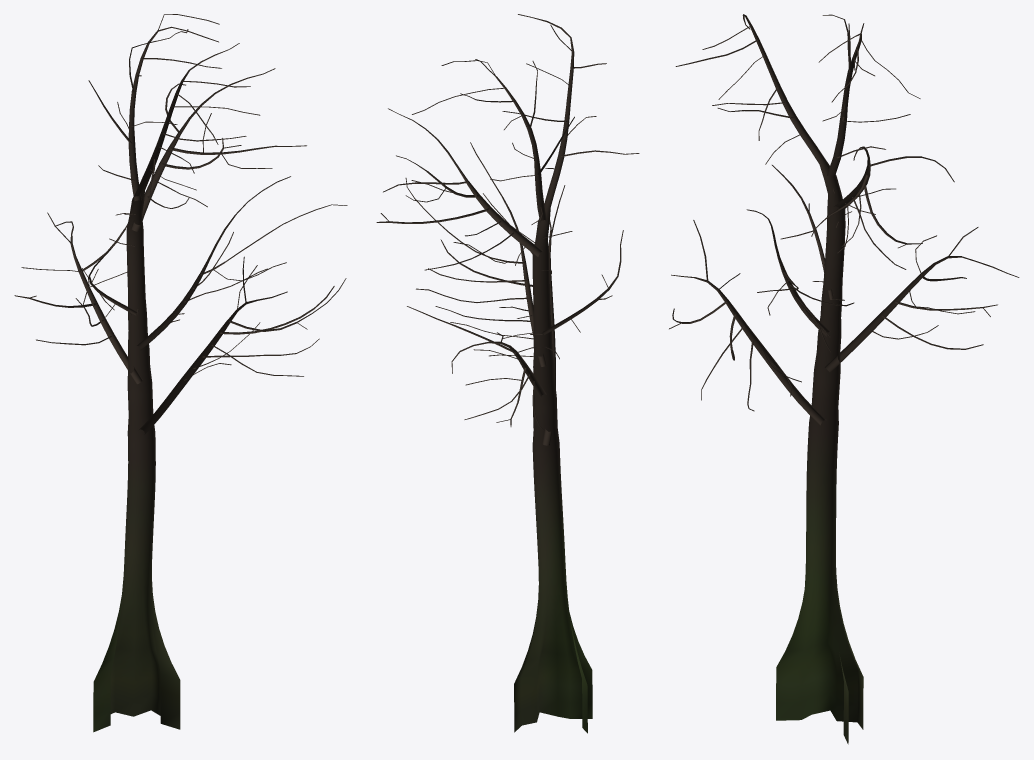
Rendered from SM_Tree_alder_0_bare.glb.
3 views of the same model, side by side, from view 1: azimuth 30°, elevation 25°; view 2: azimuth 150°, elevation 25°; view 3: azimuth 270°, elevation 25° (orthographic). The views are drawn at different scales.
Visible parts, largest first — view 1: SM_Tree_alder_0_bare; view 2: SM_Tree_alder_0_bare; view 3: SM_Tree_alder_0_bare.
Part boxes in pixels (bbox=[...]): SM_Tree_alder_0_bare: bbox=[14, 14, 347, 732]; SM_Tree_alder_0_bare: bbox=[376, 14, 639, 733]; SM_Tree_alder_0_bare: bbox=[669, 14, 1019, 744].
Size of the model in its own units: 3.95 by 10.79 by 4.65.
